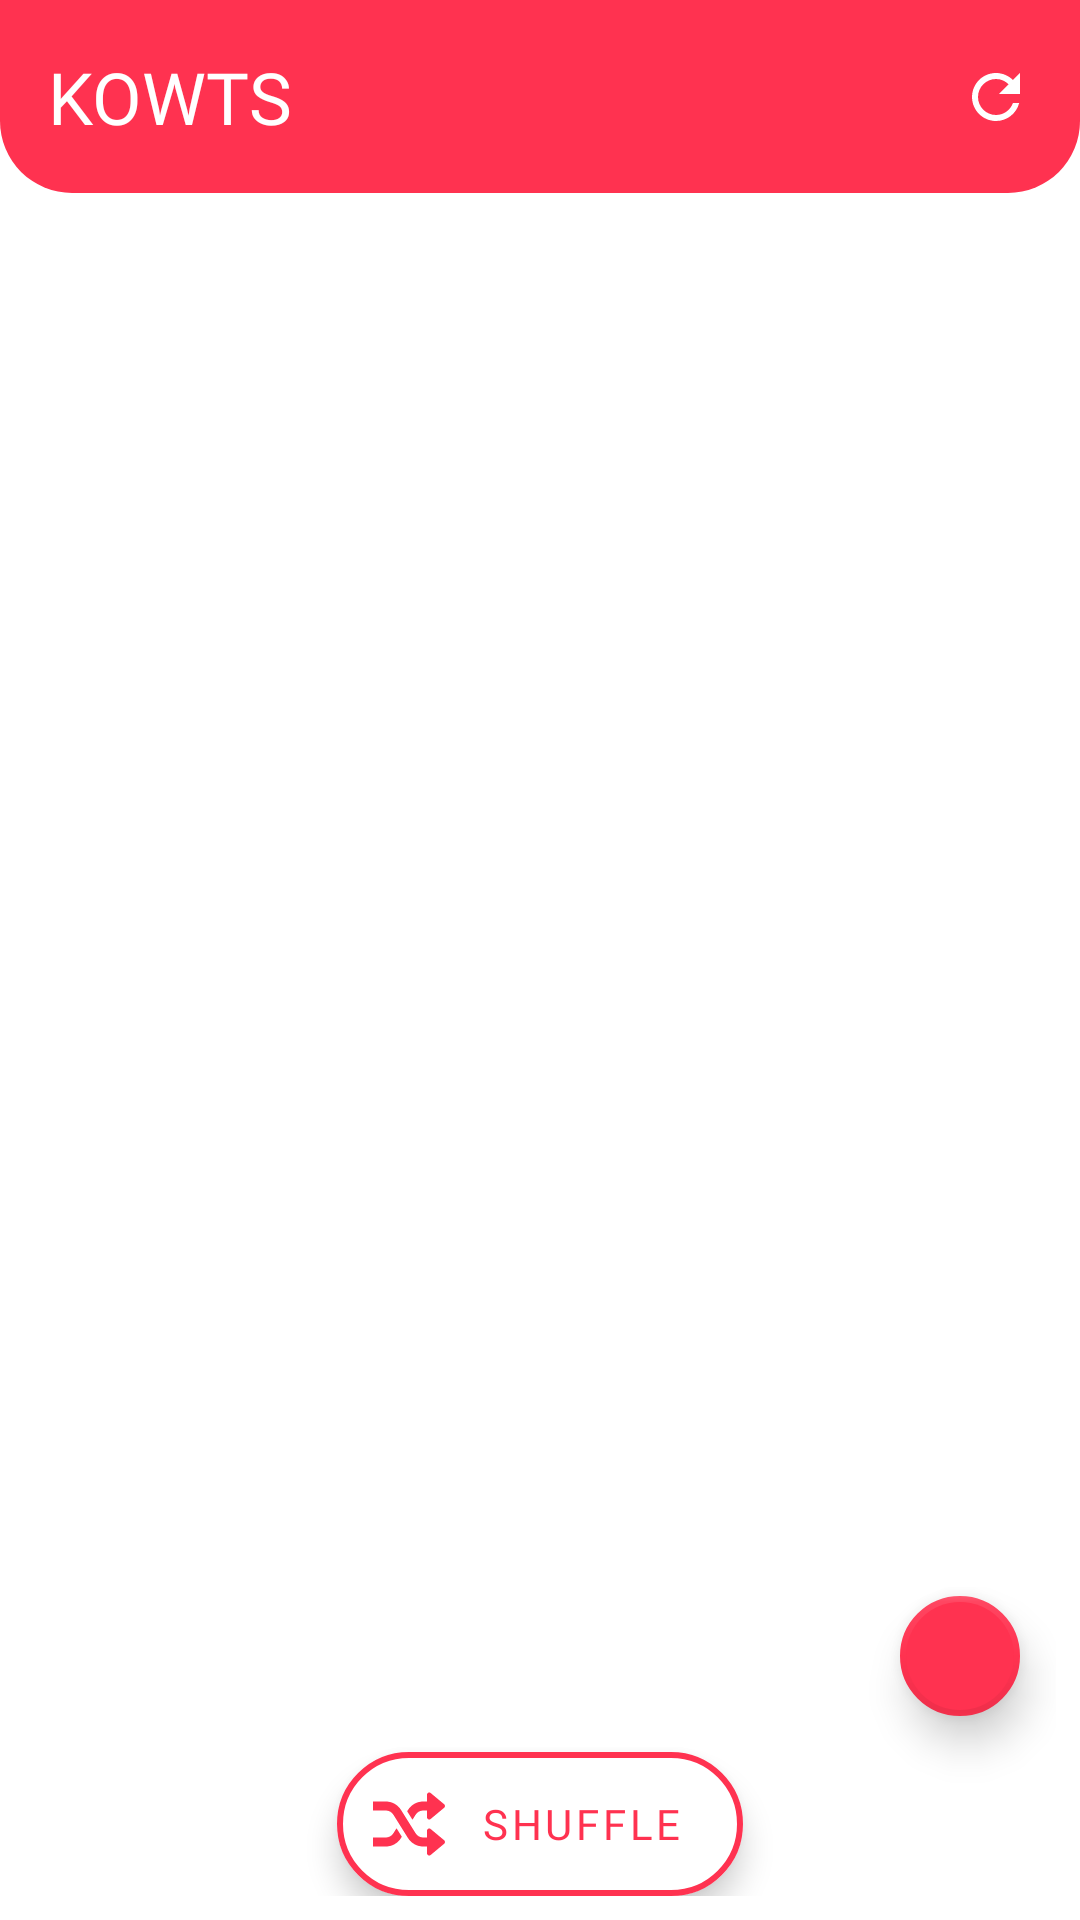

Screen size 1080 x 1920. Icon name, then its center in pixels as (x,y):
refresh: (996,97)
